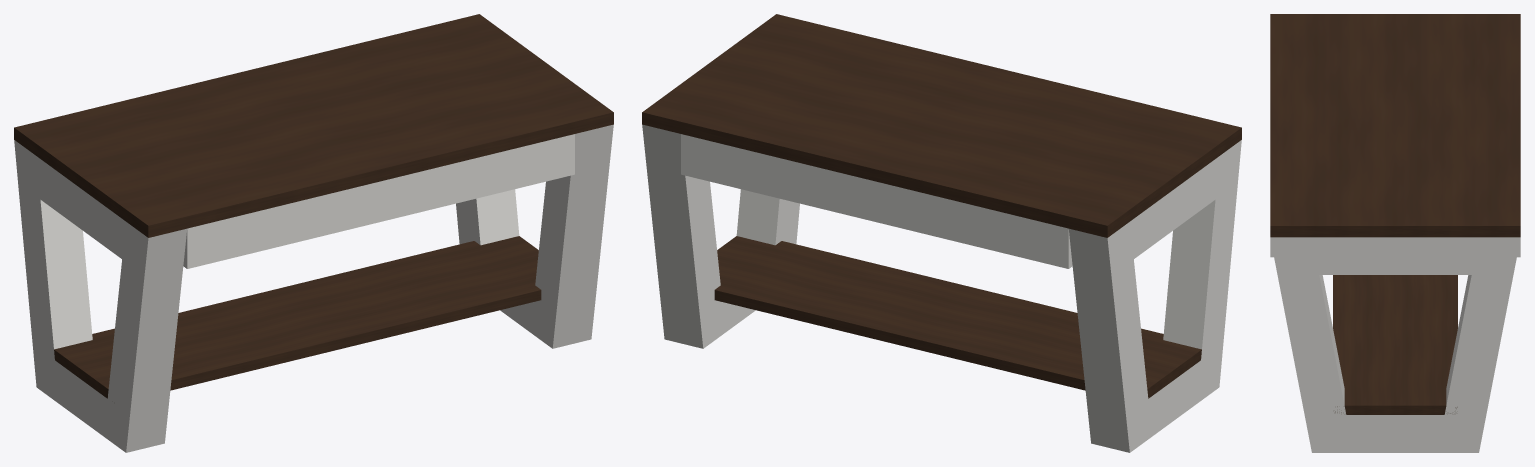
File: mesa-living-nord-estante-ebano-blanco-10cm.glb
3 renders of one model, left to right at view 1: azimuth 30°, elevation 25°; view 2: azimuth 150°, elevation 25°; view 3: azimuth 270°, elevation 25°, orthographic. The views are drawn at different scales.
Parts seen in each view (by area): view 1: Tapa de madera maciza 120 x 60 x 3 cm, Patas inclinadas con cortes a inglete, Estante inferior de madera de 120 cm (proporción aproximada), Larguero longitudinal superior de hierro 10 x 10 mm, Travesaño superior del trapecio, perfil 10 cm, Travesaño inferior del trapecio, perfil 10 cm; view 2: Tapa de madera maciza 120 x 60 x 3 cm, Patas inclinadas con cortes a inglete, Estante inferior de madera de 120 cm (proporción aproximada), Larguero longitudinal superior de hierro 10 x 10 mm, Travesaño superior del trapecio, perfil 10 cm, Travesaño inferior del trapecio, perfil 10 cm (×2); view 3: Tapa de madera maciza 120 x 60 x 3 cm, Patas inclinadas con cortes a inglete, Estante inferior de madera de 120 cm (proporción aproximada), Travesaño superior del trapecio, perfil 10 cm, Travesaño inferior del trapecio, perfil 10 cm.
Part boxes in pixels (x1,y1,x2,y2): Tapa de madera maciza 120 x 60 x 3 cm: [14, 14, 613, 237]; Patas inclinadas con cortes a inglete: [14, 124, 613, 452]; Estante inferior de madera de 120 cm (proporción aproximada): [54, 236, 541, 398]; Larguero longitudinal superior de hierro 10 x 10 mm: [183, 134, 574, 268]; Travesaño superior del trapecio, perfil 10 cm: [36, 156, 137, 269]; Travesaño inferior del trapecio, perfil 10 cm: [55, 360, 114, 438]; Tapa de madera maciza 120 x 60 x 3 cm: [642, 14, 1241, 237]; Patas inclinadas con cortes a inglete: [642, 124, 1241, 452]; Estante inferior de madera de 120 cm (proporción aproximada): [714, 236, 1201, 398]; Larguero longitudinal superior de hierro 10 x 10 mm: [681, 134, 1072, 268]; Travesaño superior del trapecio, perfil 10 cm: [1118, 149, 1230, 268]; Travesaño inferior del trapecio, perfil 10 cm (×2): [715, 300, 1200, 436]; Tapa de madera maciza 120 x 60 x 3 cm: [1270, 14, 1520, 237]; Patas inclinadas con cortes a inglete: [1270, 237, 1520, 452]; Estante inferior de madera de 120 cm (proporción aproximada): [1333, 275, 1457, 414]; Travesaño superior del trapecio, perfil 10 cm: [1291, 237, 1499, 274]; Travesaño inferior del trapecio, perfil 10 cm: [1333, 415, 1457, 452].
Size of the model in its own units: 1.2 by 0.6 by 0.6.
Materials: 2 (1 with a texture image).
